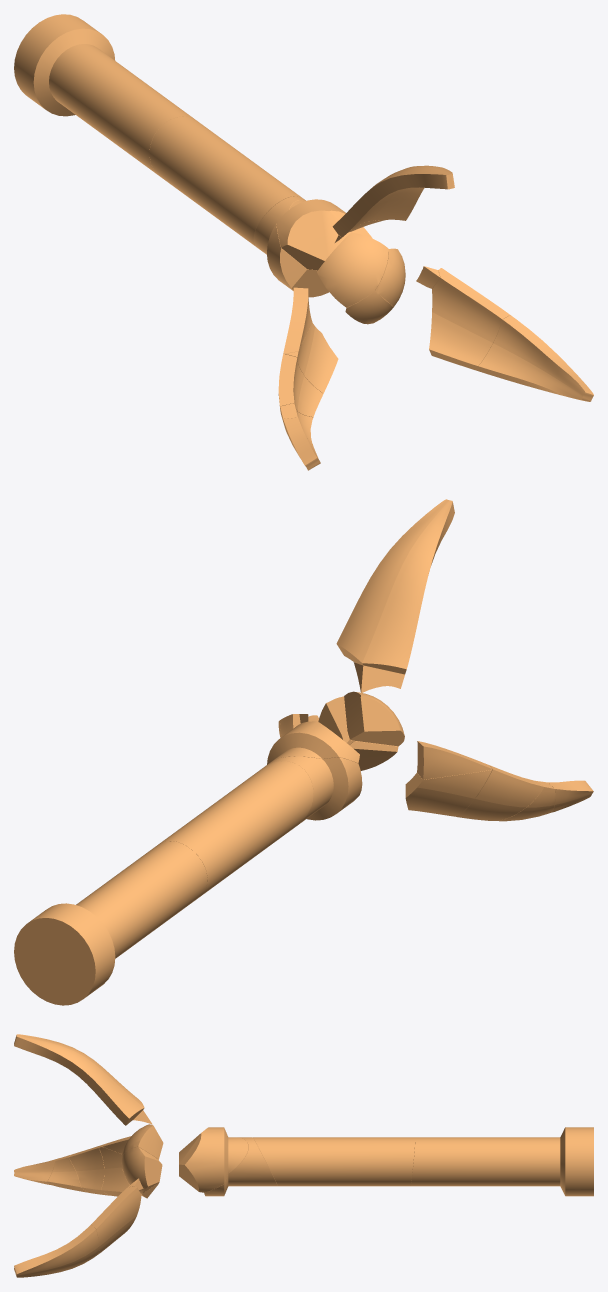
Rendered from Claw Shattered Fragments.fbx.
3 renders of one model, top to bottom at view 1: azimuth 30°, elevation 25°; view 2: azimuth 150°, elevation 25°; view 3: azimuth 270°, elevation 25°, orthographic. The views are drawn at different scales.
Visible parts, largest first — view 1: Whole Claw_cell.009, Whole Claw_cell.023, Whole Claw_cell.013, Whole Claw_cell, Whole Claw_cell.022, Whole Claw_cell.008, Whole Claw_cell.006, Whole Claw_cell.012, Whole Claw_cell.018, Whole Claw_cell.011, Whole Claw_cell.005, Whole Claw_cell.014 (+2 smaller); view 2: Whole Claw_cell.009, Whole Claw_cell.022, Whole Claw_cell.023, Whole Claw_cell.012, Whole Claw_cell.018, Whole Claw_cell.011, Whole Claw_cell.006, Whole Claw_cell.008, Whole Claw_cell.005, Whole Claw_cell.001, Whole Claw_cell.019, Whole Claw_cell.014 (+2 smaller); view 3: Whole Claw_cell.009, Whole Claw_cell.023, Whole Claw_cell.022, Whole Claw_cell.008, Whole Claw_cell, Whole Claw_cell.013, Whole Claw_cell.012, Whole Claw_cell.014, Whole Claw_cell.011, Whole Claw_cell.018, Whole Claw_cell.006, Whole Claw_cell.015 (+1 smaller).
Part boxes in pixels (left/top/right/bottom): Whole Claw_cell.009: left=14, top=14, right=196, bottom=174; Whole Claw_cell.023: left=149, top=116, right=301, bottom=246; Whole Claw_cell.013: left=429, top=268, right=509, bottom=371; Whole Claw_cell: left=478, top=315, right=593, bottom=401; Whole Claw_cell.022: left=332, top=165, right=454, bottom=237; Whole Claw_cell.008: left=276, top=199, right=372, bottom=270; Whole Claw_cell.006: left=317, top=232, right=388, bottom=307; Whole Claw_cell.012: left=253, top=196, right=329, bottom=297; Whole Claw_cell.018: left=283, top=323, right=338, bottom=393; Whole Claw_cell.011: left=278, top=354, right=323, bottom=417; Whole Claw_cell.005: left=283, top=287, right=312, bottom=353; Whole Claw_cell.014: left=375, top=248, right=405, bottom=307; Whole Claw_cell.009: left=14, top=841, right=207, bottom=1005; Whole Claw_cell.022: left=336, top=499, right=454, bottom=674; Whole Claw_cell.023: left=158, top=761, right=313, bottom=895; Whole Claw_cell.012: left=265, top=756, right=362, bottom=824; Whole Claw_cell.018: left=405, top=763, right=491, bottom=816; Whole Claw_cell.011: left=457, top=765, right=543, bottom=820; Whole Claw_cell.006: left=344, top=691, right=404, bottom=746; Whole Claw_cell.008: left=267, top=721, right=359, bottom=764; Whole Claw_cell.005: left=417, top=741, right=492, bottom=779; Whole Claw_cell.001: left=353, top=662, right=404, bottom=693; Whole Claw_cell.019: left=548, top=780, right=593, bottom=812; Whole Claw_cell.014: left=318, top=696, right=354, bottom=744; Whole Claw_cell.009: left=410, top=1127, right=593, bottom=1196; Whole Claw_cell.023: left=253, top=1137, right=415, bottom=1186; Whole Claw_cell.022: left=14, top=1034, right=144, bottom=1125; Whole Claw_cell.008: left=179, top=1127, right=248, bottom=1192; Whole Claw_cell: left=14, top=1225, right=99, bottom=1277; Whole Claw_cell.013: left=91, top=1186, right=141, bottom=1254; Whole Claw_cell.012: left=204, top=1137, right=277, bottom=1196; Whole Claw_cell.014: left=121, top=1147, right=162, bottom=1193; Whole Claw_cell.011: left=68, top=1143, right=108, bottom=1195; Whole Claw_cell.018: left=99, top=1144, right=129, bottom=1196; Whole Claw_cell.006: left=122, top=1124, right=163, bottom=1159; Whole Claw_cell.015: left=47, top=1155, right=86, bottom=1192.
Bounding box in the file's own units: 283 × 249 × 672.
